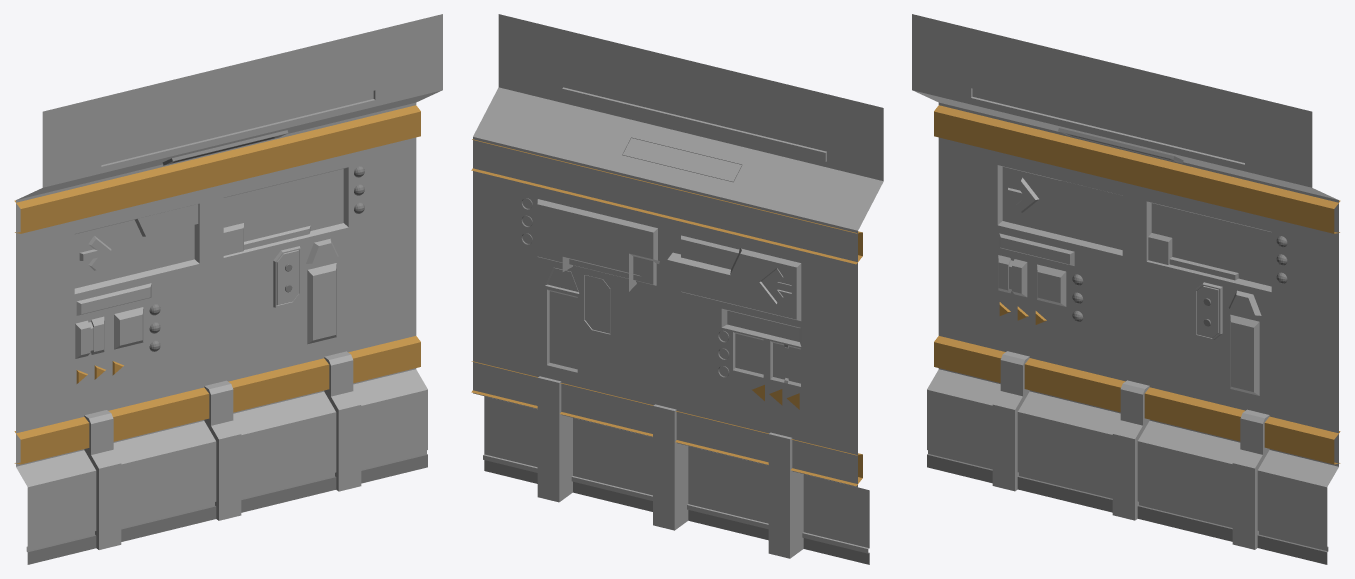
The model's file is wall_4.glb.
The picture shows the model from 3 angles, left to right: view 1: azimuth 30°, elevation 25°; view 2: azimuth 150°, elevation 25°; view 3: azimuth 330°, elevation 25°; orthographic projection. The views are drawn at different scales.
Parts seen in each view (by area): view 1: Wall_4; view 2: Wall_4; view 3: Wall_4.
Part boxes in pixels (box(x1,y1,x2,y2)): Wall_4: box(14, 14, 442, 564); Wall_4: box(471, 14, 883, 564); Wall_4: box(912, 14, 1340, 564).
Size of the model in its own units: 4 by 4.43 by 0.5726.
